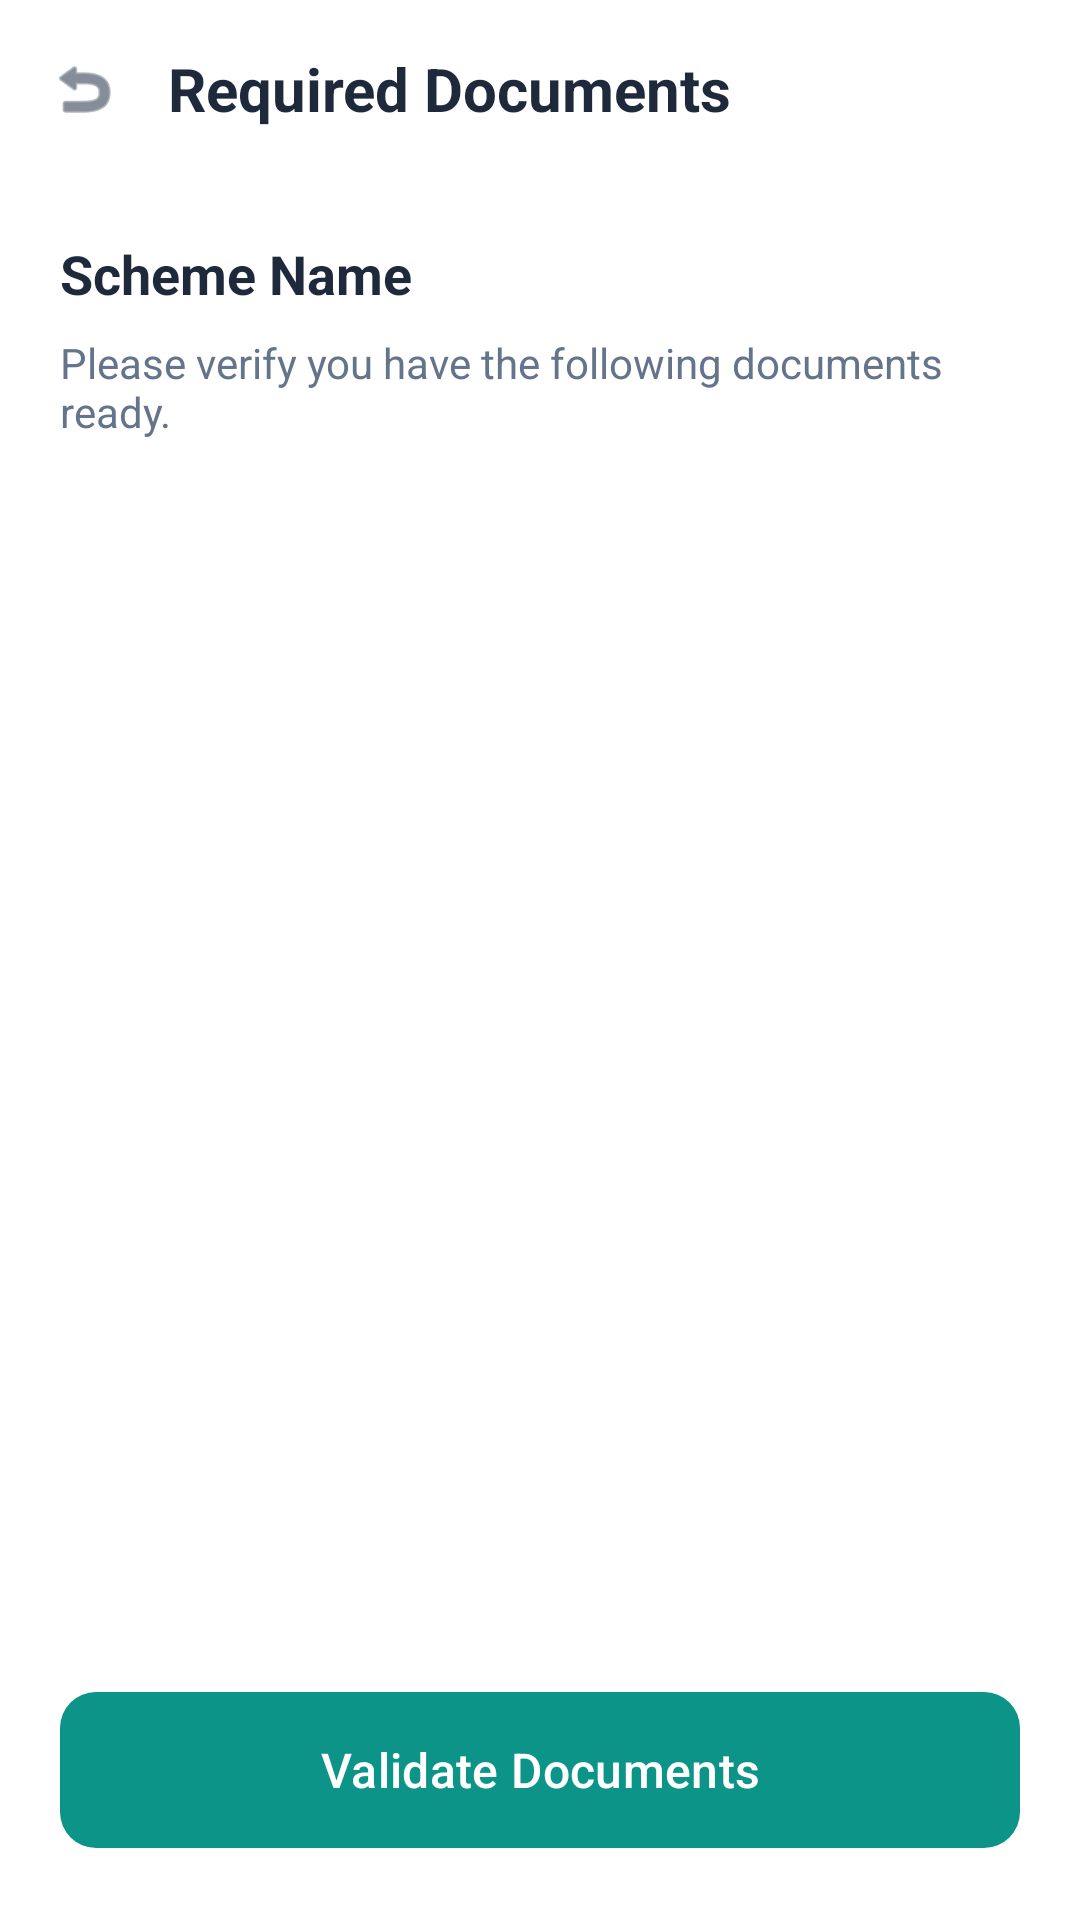

Screen size 1080x1920. Icon name, then its center in pixels as (x,y):
revert: (85,89)
